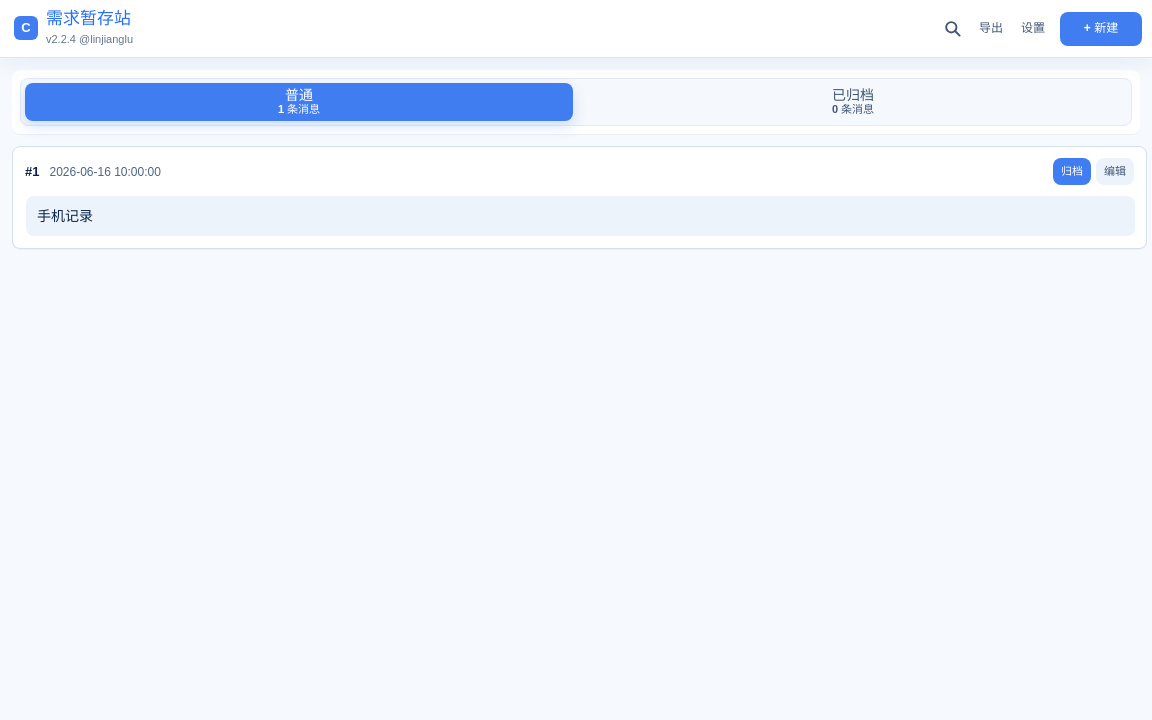
Test case: android shell › uses edit as the default double click action on android messages
Double-click the button "手机记录": (65, 216) [26,196,1135,236]
(page scrolled)
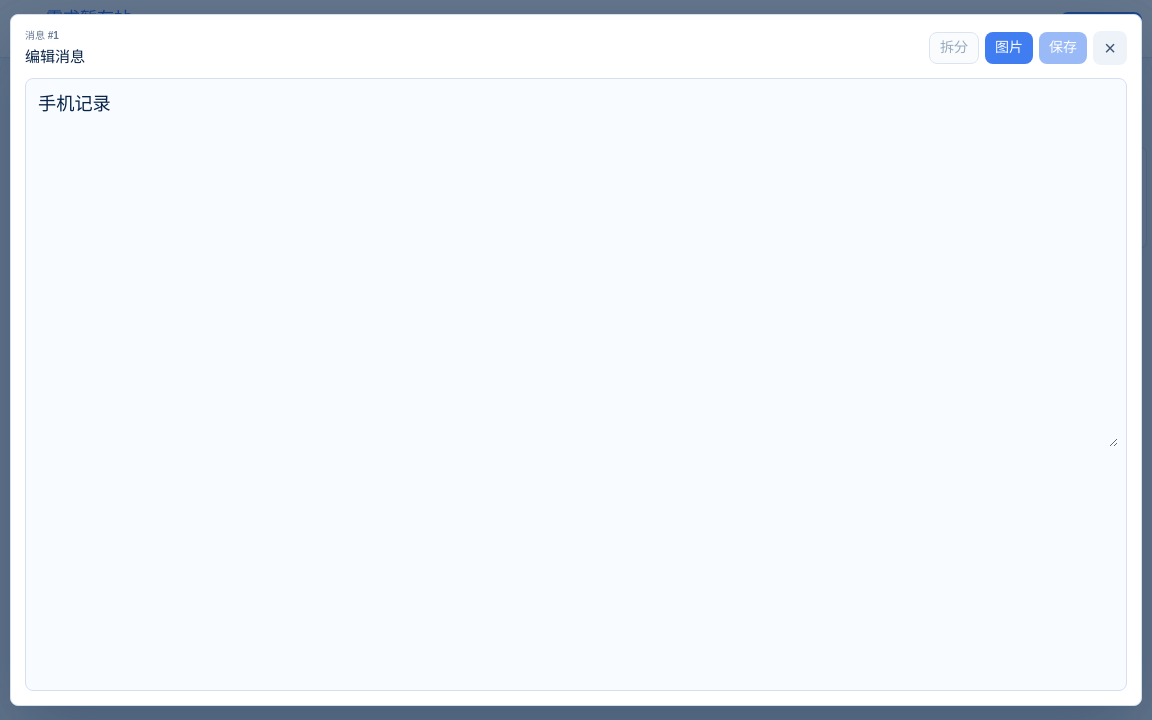
expect the dialog named "编辑消息 1" is shown: met
